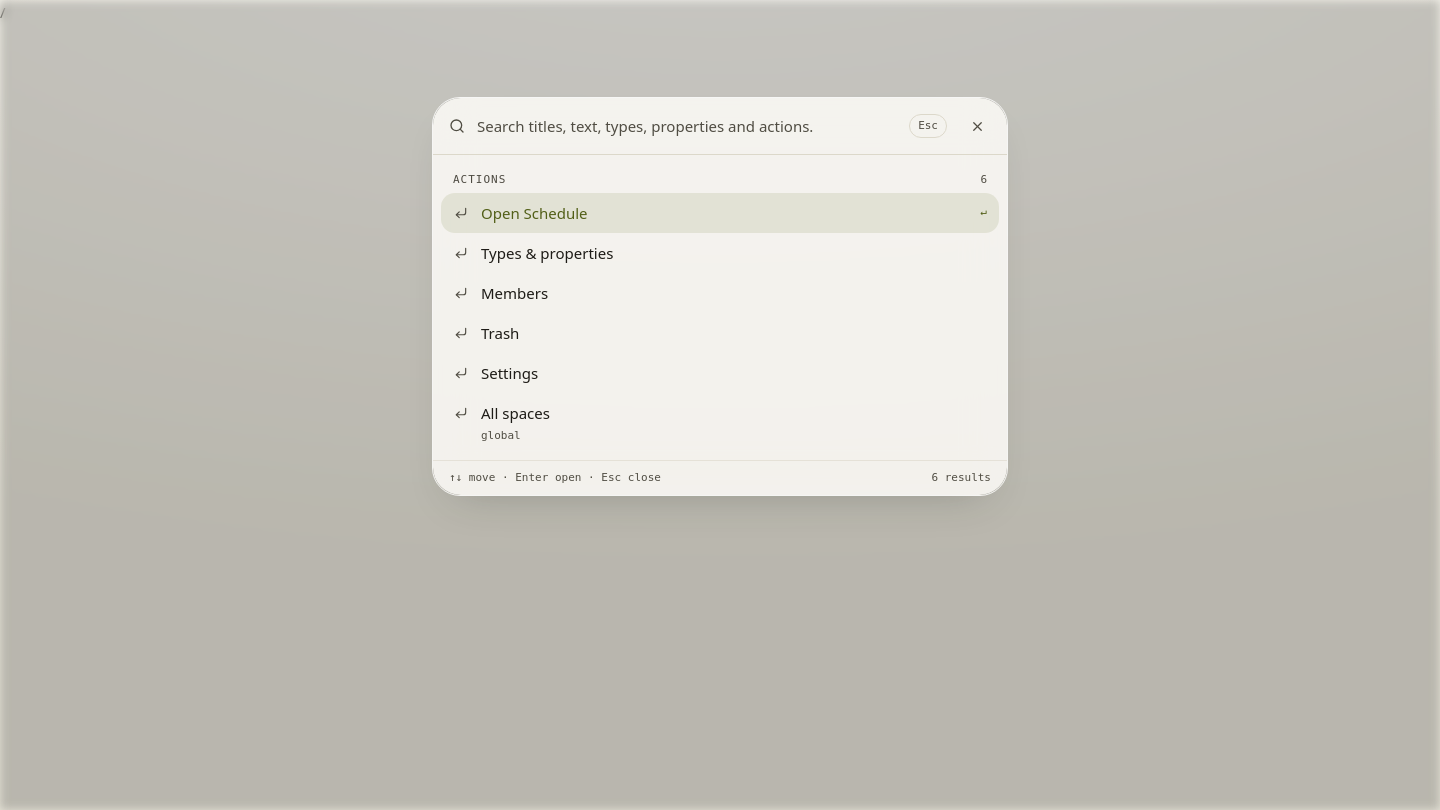
Test: CommandPalette › shows a body-only result with its snippet and opens the record on Enter
Type "unfurling" into the dropdown named "Search and commands" at (687, 126), box [477, 98, 897, 154]
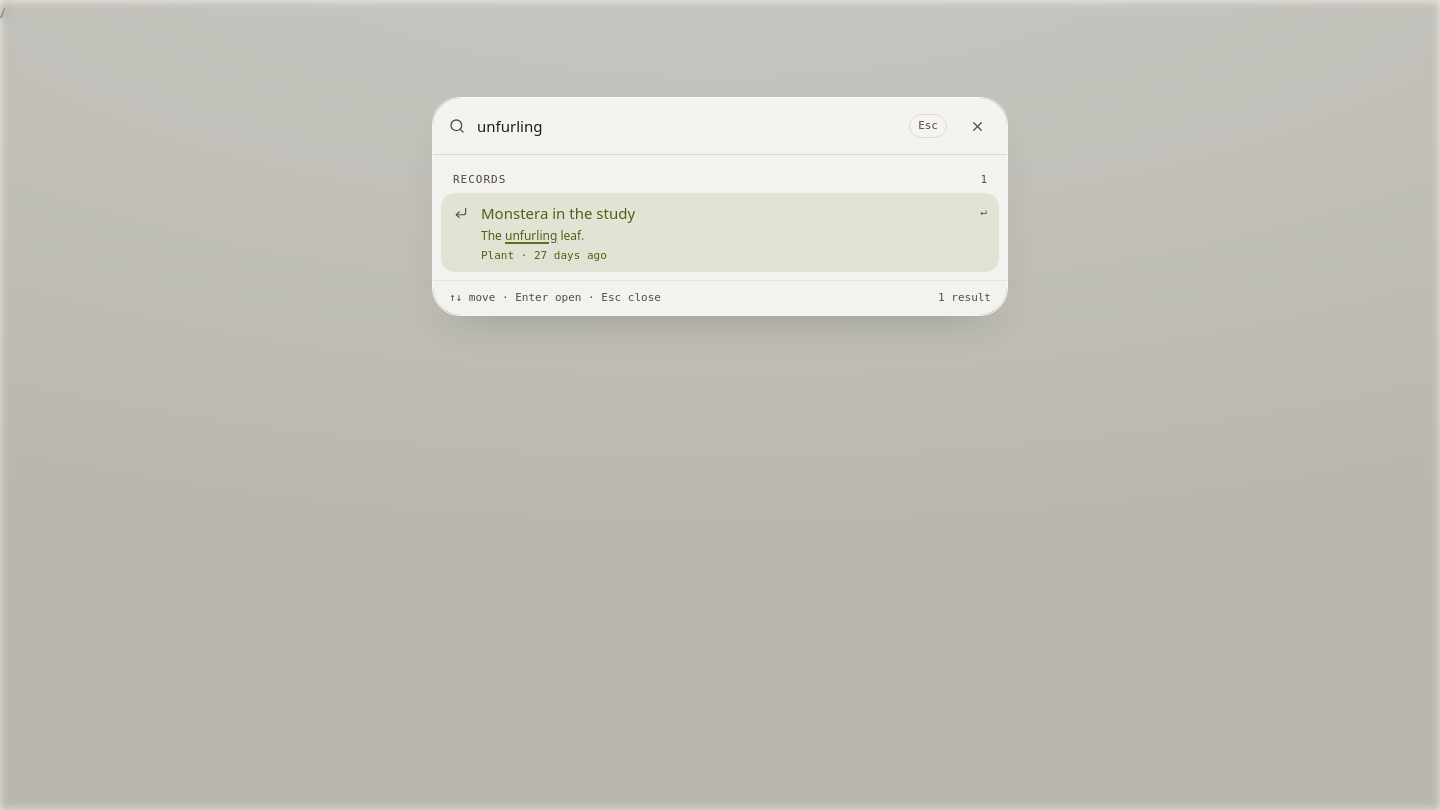
Result: the text "Monstera in the study" is shown at [481, 201, 635, 225]
Result: the text "unfurling" is shown at [505, 227, 557, 244]
Result: the element showing "The unfurling leaf." is shown at [481, 227, 584, 244]
Press Enter in the dropdown named "Search and commands", box [477, 98, 897, 154]
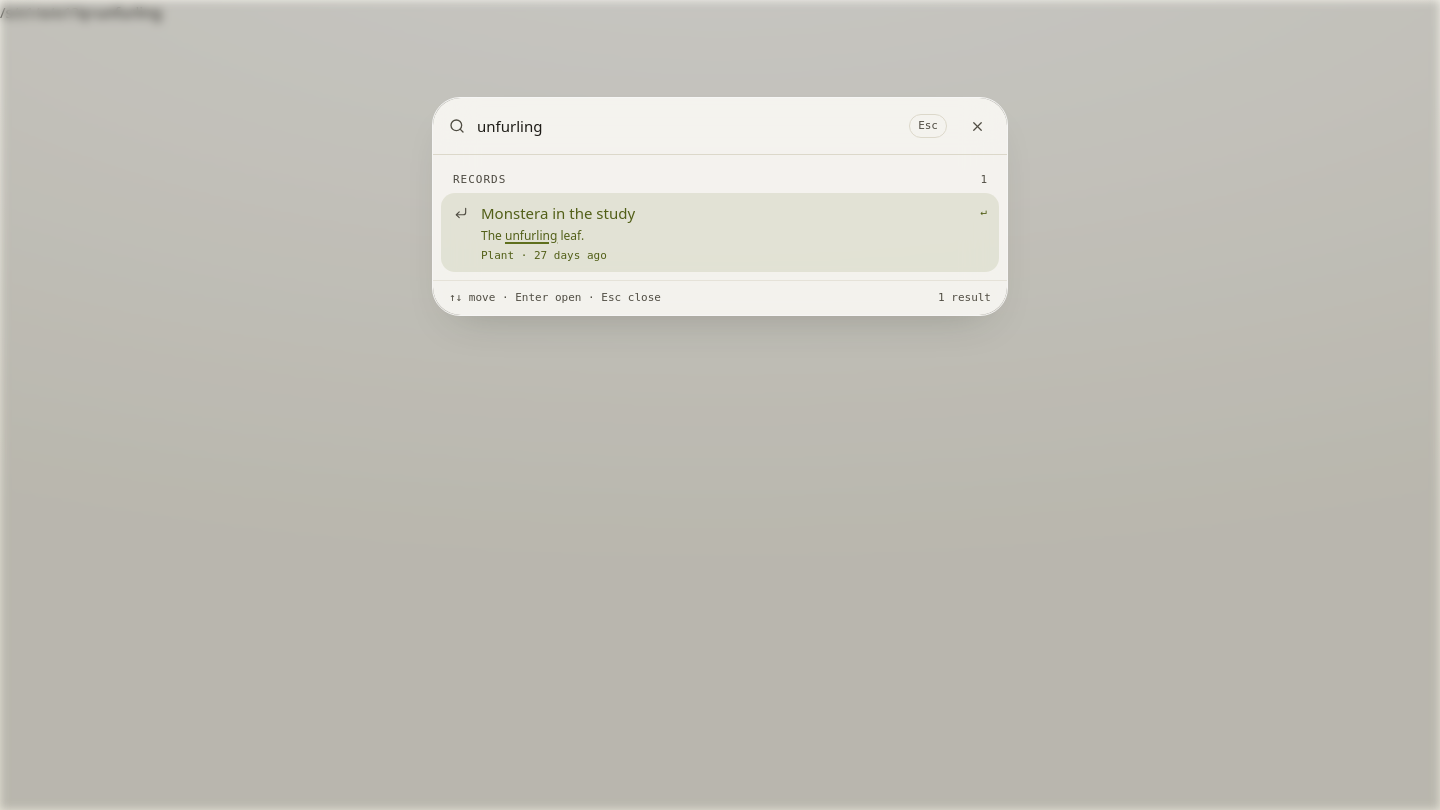
Result: the text with test id "location" reads "/s/s1/o/o1?q=unfurling" at [0, 2, 162, 22]
